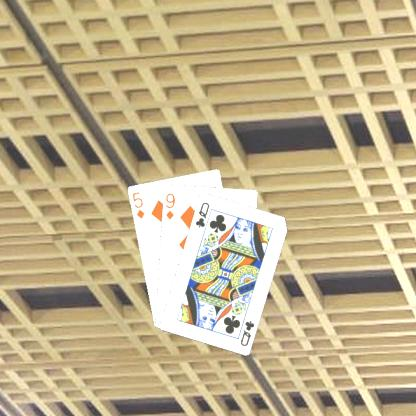5D: (129, 189, 146, 220)
9D: (163, 190, 176, 221)
QC: (192, 199, 211, 229), (237, 318, 256, 348)
